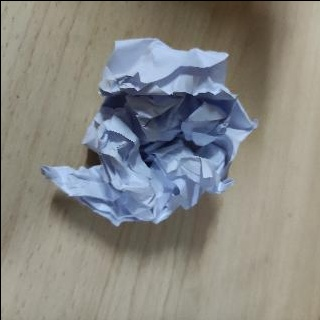8/可回收垃圾/纸: (39, 37, 258, 227)
